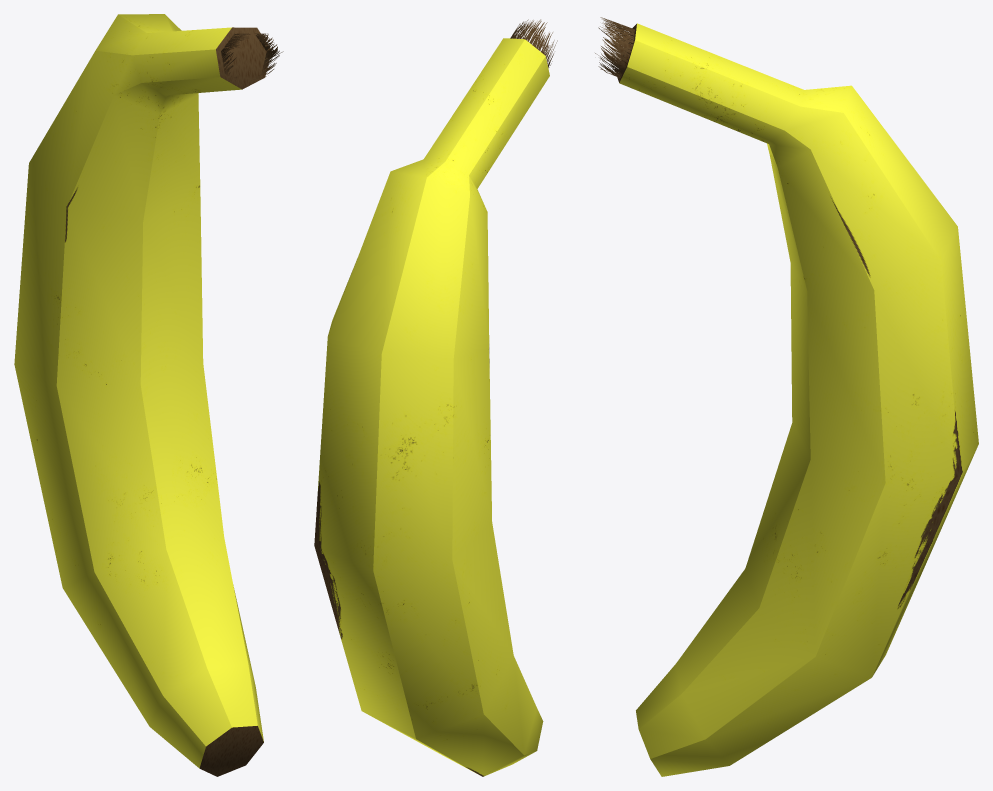
Rendered from Banana.fbx.
The picture shows the model from 3 angles, left to right: view 1: azimuth 30°, elevation 25°; view 2: azimuth 150°, elevation 25°; view 3: azimuth 270°, elevation 25°; orthographic projection. The views are drawn at different scales.
Visible parts, largest first — view 1: Cylinder; view 2: Cylinder; view 3: Cylinder.
Boxes of the visible parts, left/top/right/bottom form: Cylinder: left=14, top=14, right=283, bottom=776; Cylinder: left=314, top=19, right=557, bottom=776; Cylinder: left=595, top=17, right=978, bottom=776.
Size of the model in its own units: 4.92 by 22.38 by 10.42.
Materials: 1 (1 with a texture image).
